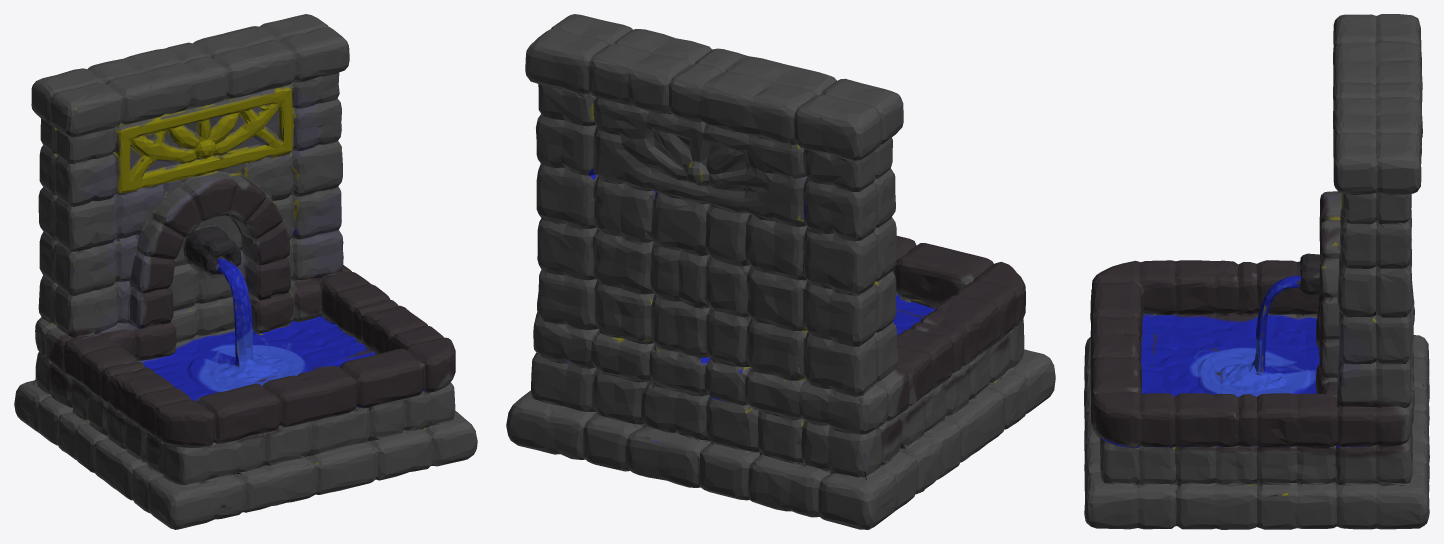
Rendered from fonte_de_parede.glb.
3 views of the same model, side by side, from view 1: azimuth 30°, elevation 25°; view 2: azimuth 150°, elevation 25°; view 3: azimuth 270°, elevation 25° (orthographic). The views are drawn at different scales.
Parts seen in each view (by area): view 1: tmpu0kltk_n.ply; view 2: tmpu0kltk_n.ply; view 3: tmpu0kltk_n.ply.
Part boxes in pixels (<box>): tmpu0kltk_n.ply: <box>14,14,477,529</box>; tmpu0kltk_n.ply: <box>506,14,1055,529</box>; tmpu0kltk_n.ply: <box>1084,14,1429,529</box>.
Size of the model in its own units: 1.86 by 1.96 by 1.67.
1 material, 1 textured.
